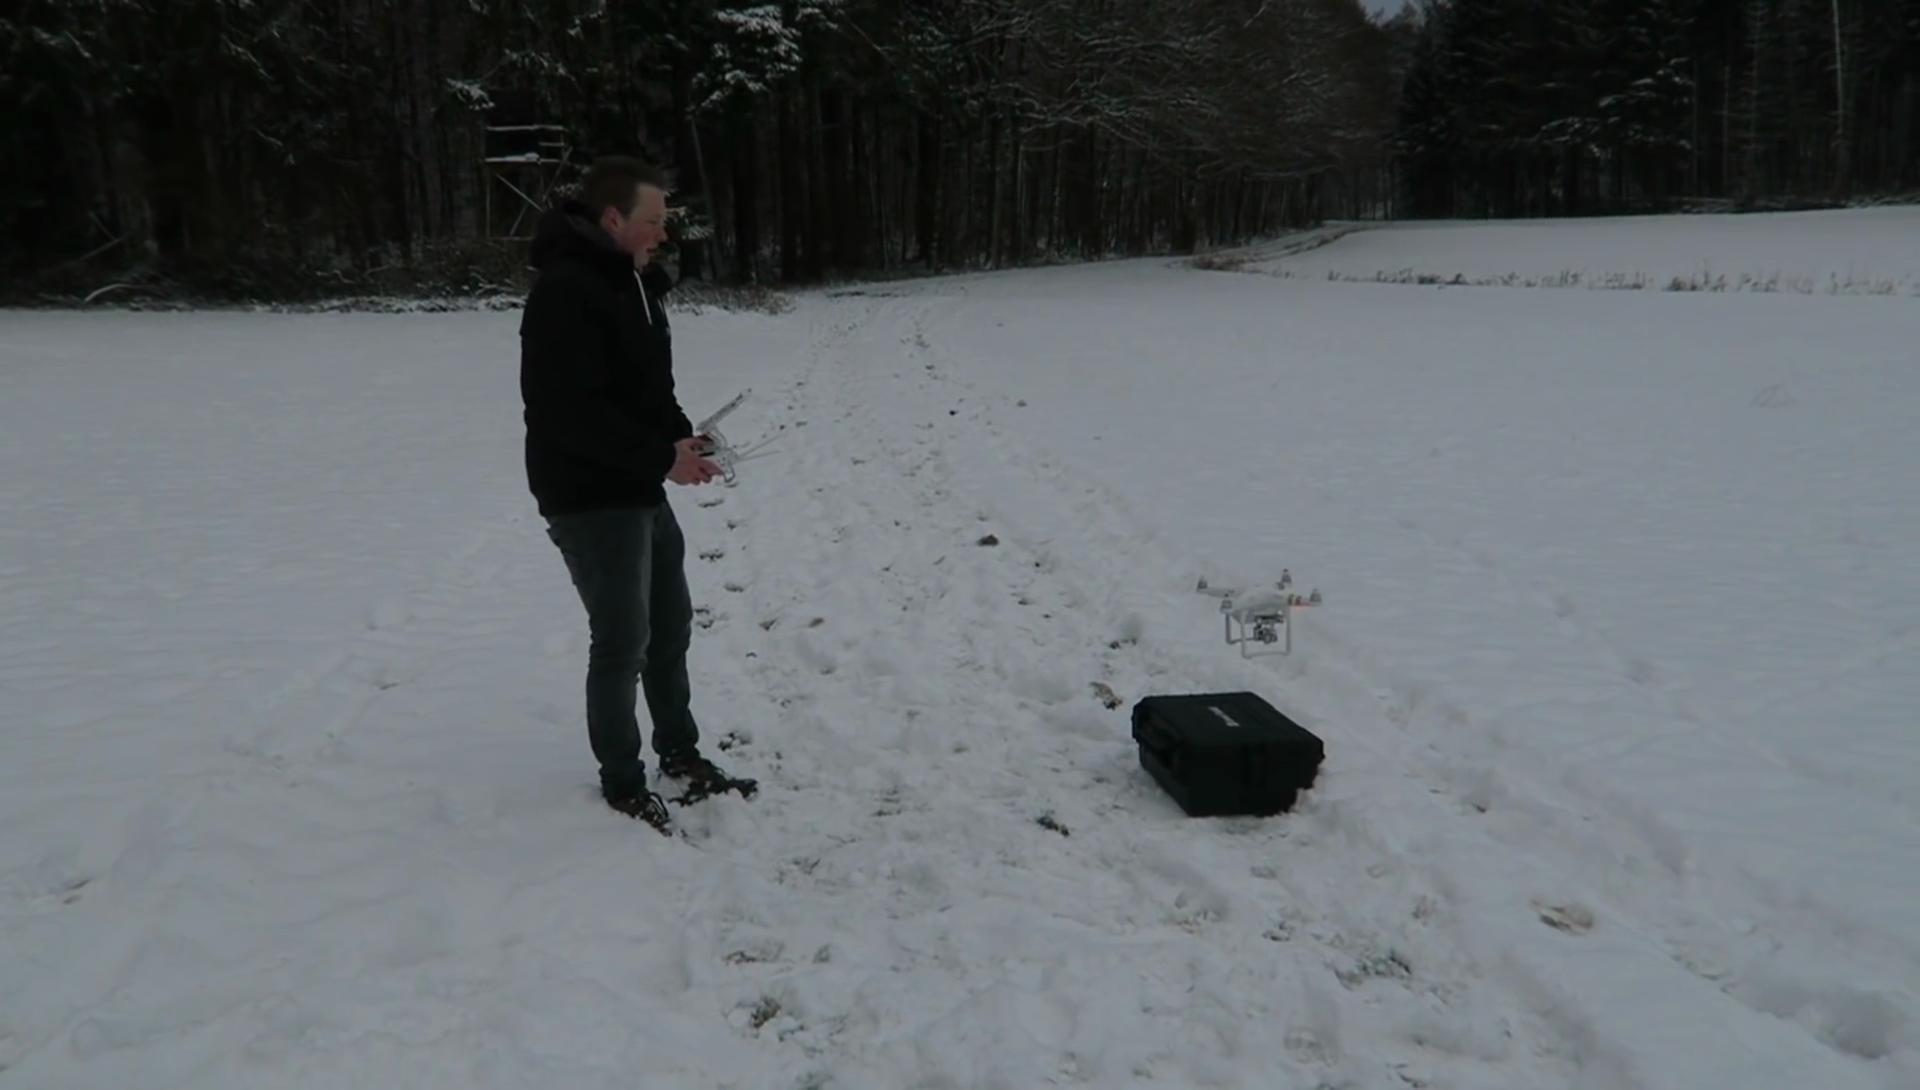drone: (1192, 564, 1328, 662)
